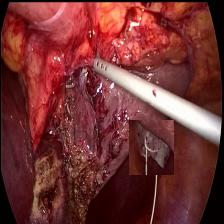Irrigator: (88, 43, 121, 93)
Specimen Bag: (128, 119, 173, 174)
